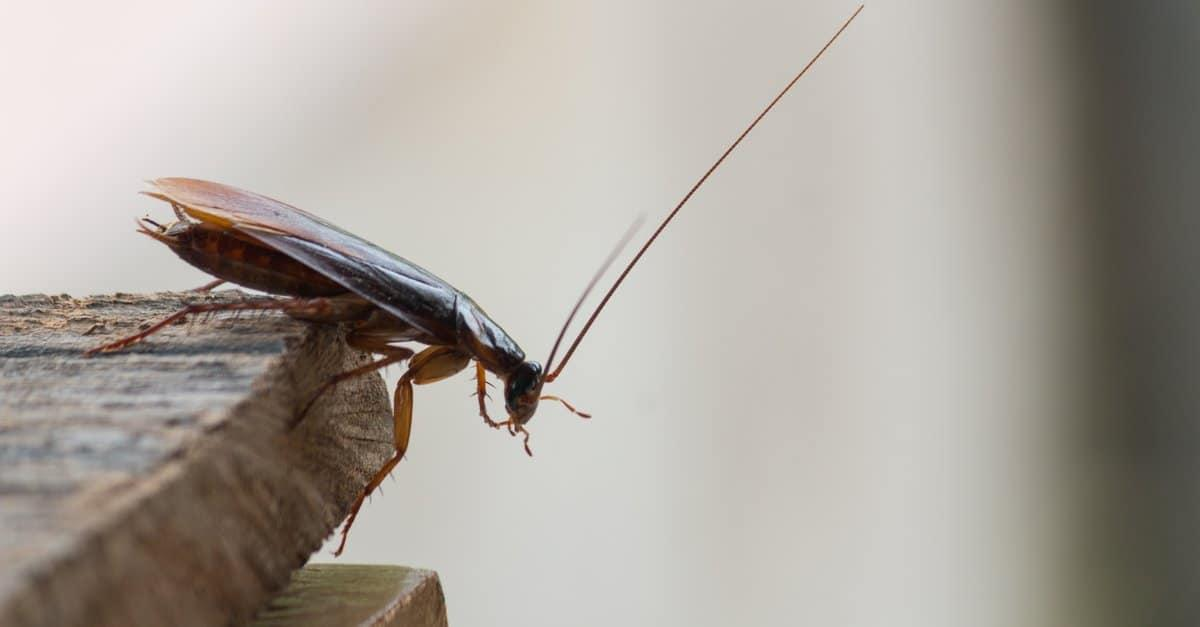cockroach: (135, 168, 554, 450)
